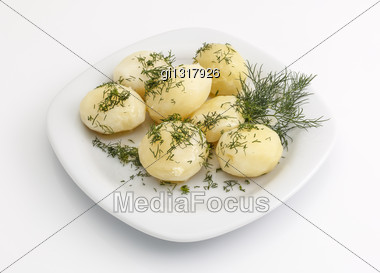boiled potatoes: (85, 45, 284, 178)
